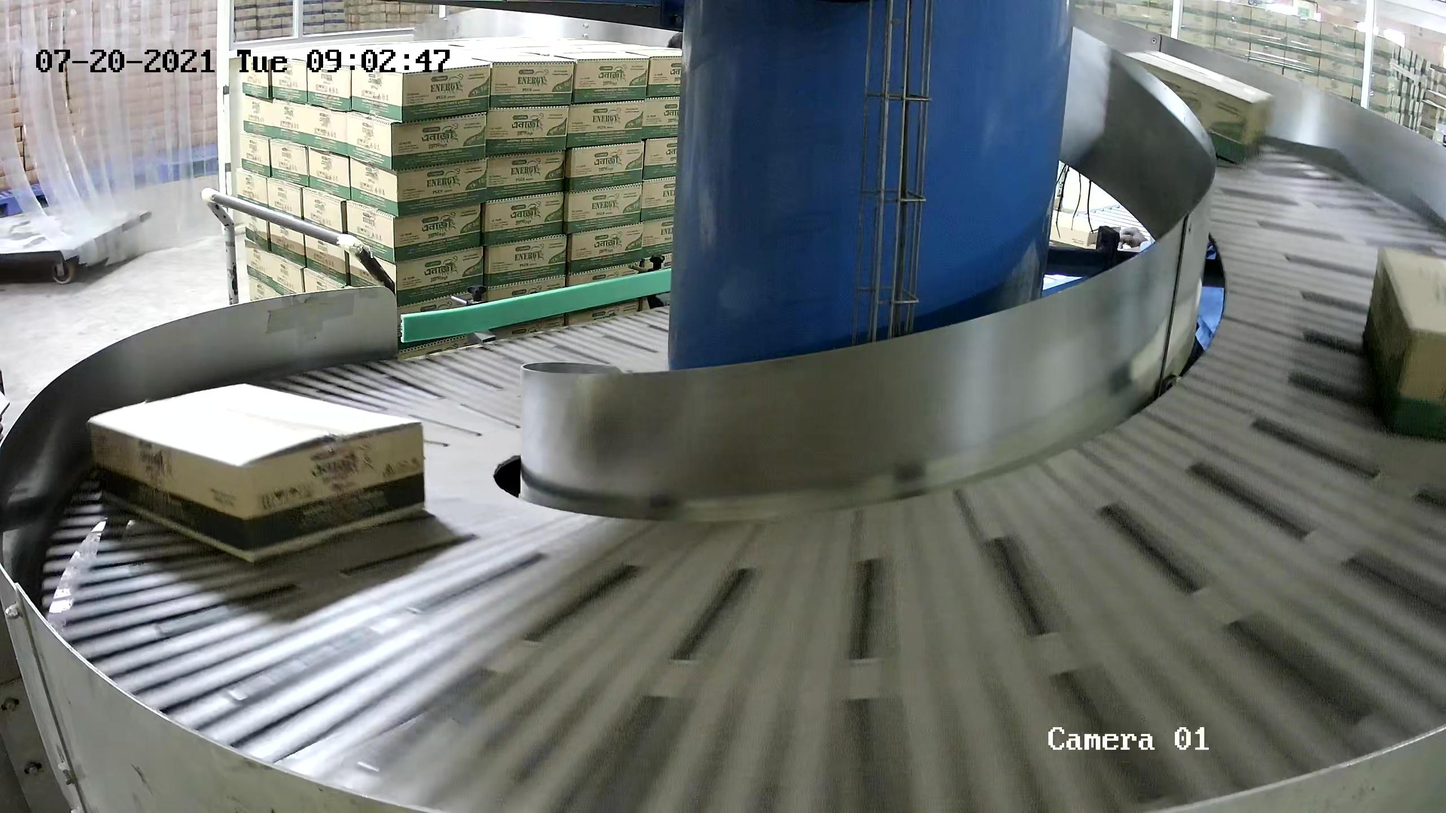Box: (86, 382, 427, 565), (1112, 48, 1274, 166), (1362, 244, 1446, 447)
